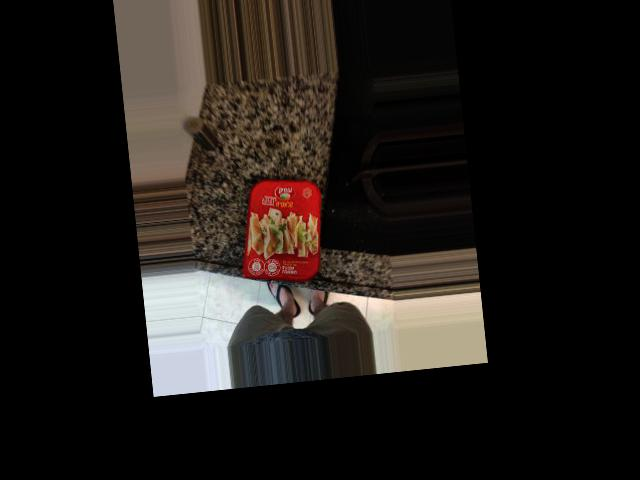cheese: (244, 120, 343, 239)
